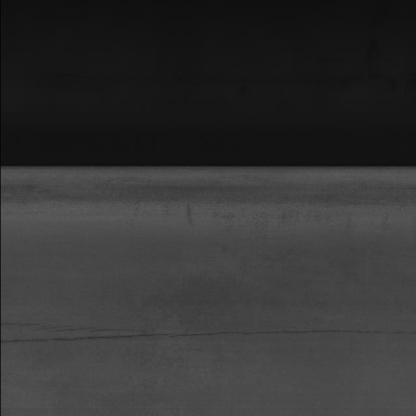inclusion: (1, 319, 407, 346)
